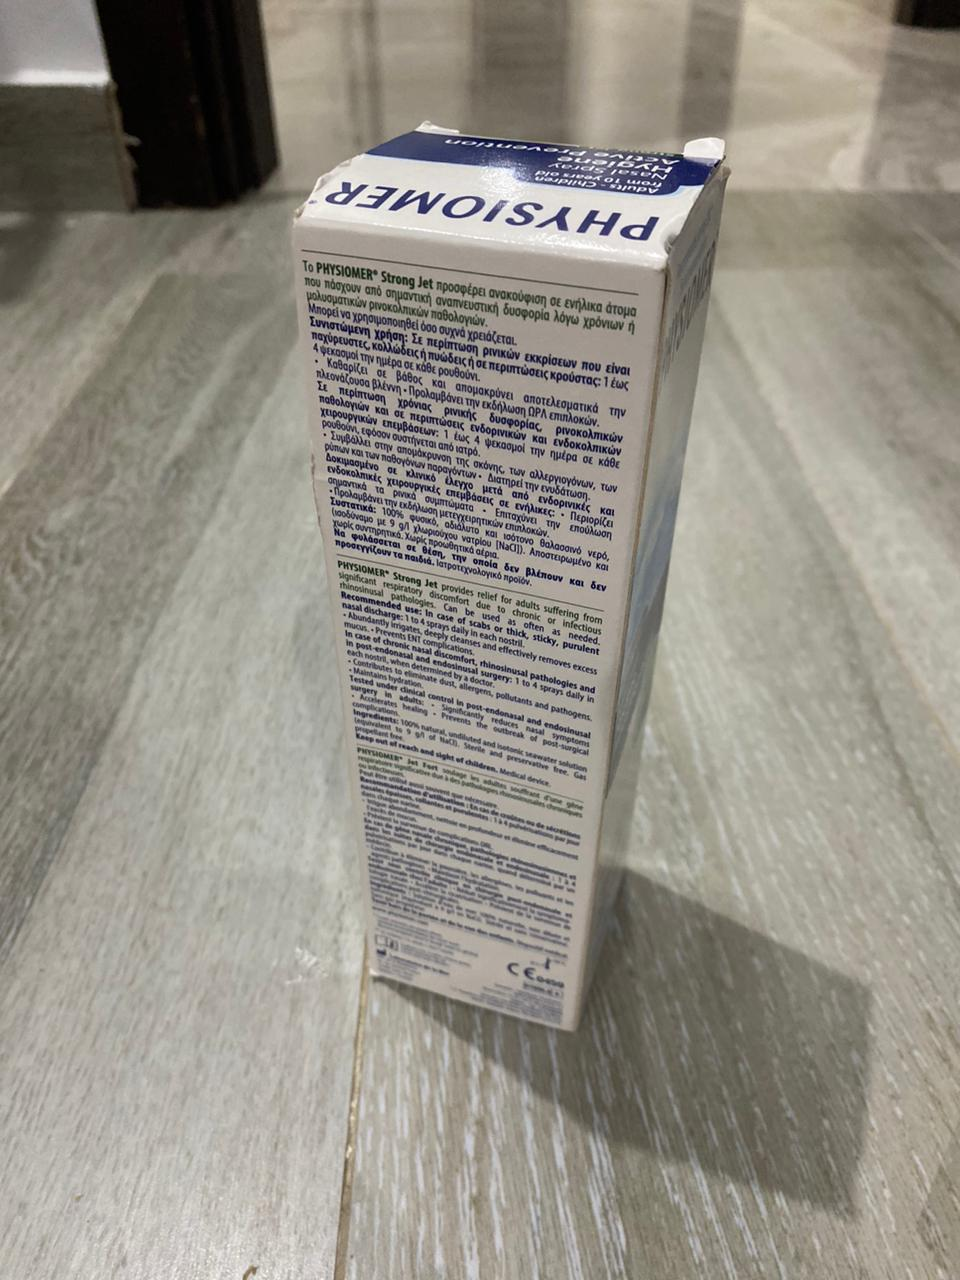Physiomer: (287, 116, 735, 1048)
